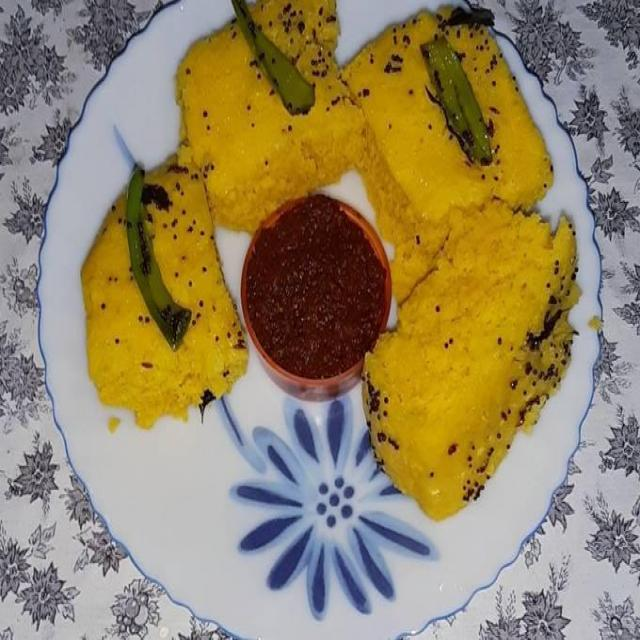dhokla: (79, 10, 574, 508)
